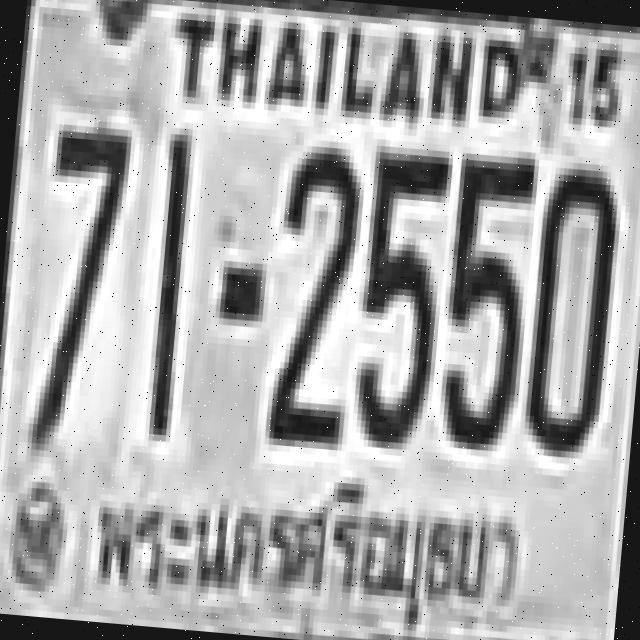0: (518, 160, 620, 453)
1: (140, 126, 192, 428)
2: (264, 138, 364, 444), (266, 138, 364, 418)
5: (432, 149, 535, 449), (348, 144, 446, 444)
7: (28, 117, 128, 436), (32, 117, 128, 391), (37, 117, 128, 334)
Ayutthaya: (75, 441, 521, 640)
